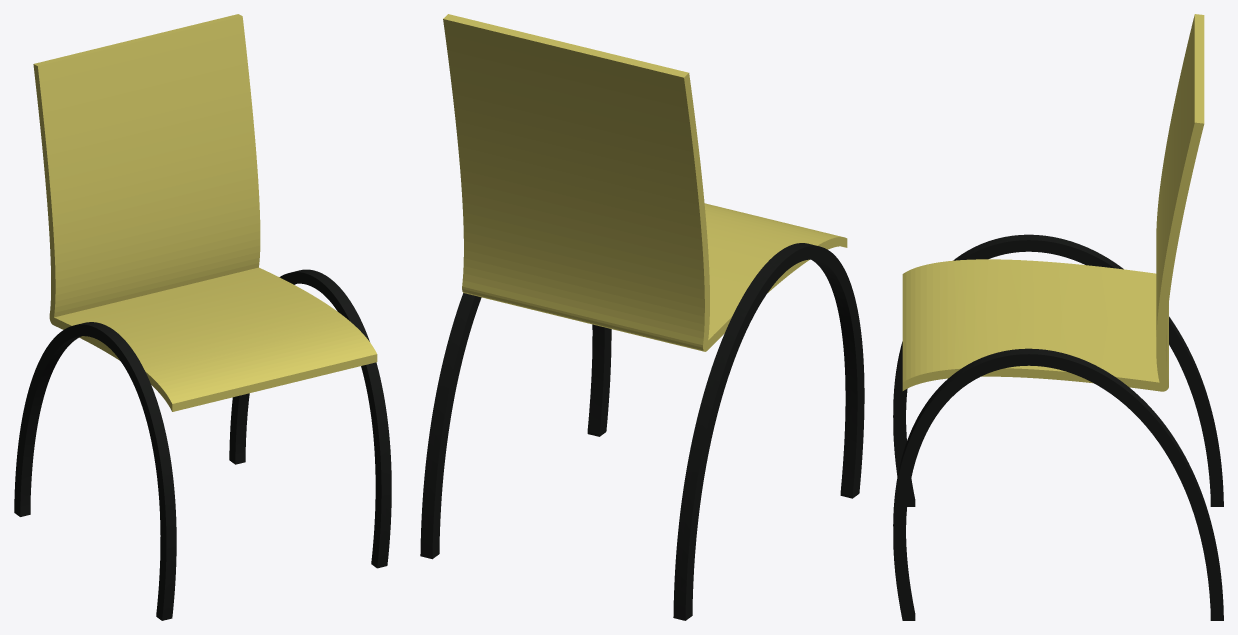
The model's file is Krzeslo.dae.
The picture shows the model from 3 angles, left to right: view 1: azimuth 30°, elevation 25°; view 2: azimuth 150°, elevation 25°; view 3: azimuth 270°, elevation 25°; orthographic projection. The views are drawn at different scales.
Visible parts, largest first — view 1: Krzesło; view 2: Krzesło; view 3: Krzesło.
Part boxes in pixels (x1=…): Krzesło: x1=14, y1=14, x2=391, y2=620; Krzesło: x1=420, y1=14, x2=864, y2=620; Krzesło: x1=893, y1=14, x2=1223, y2=620.
Size of the model in its own units: 0.44 by 0.5147 by 0.8466.
